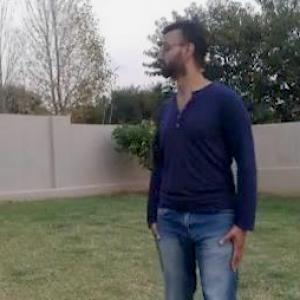follow: (142, 6, 261, 299)
